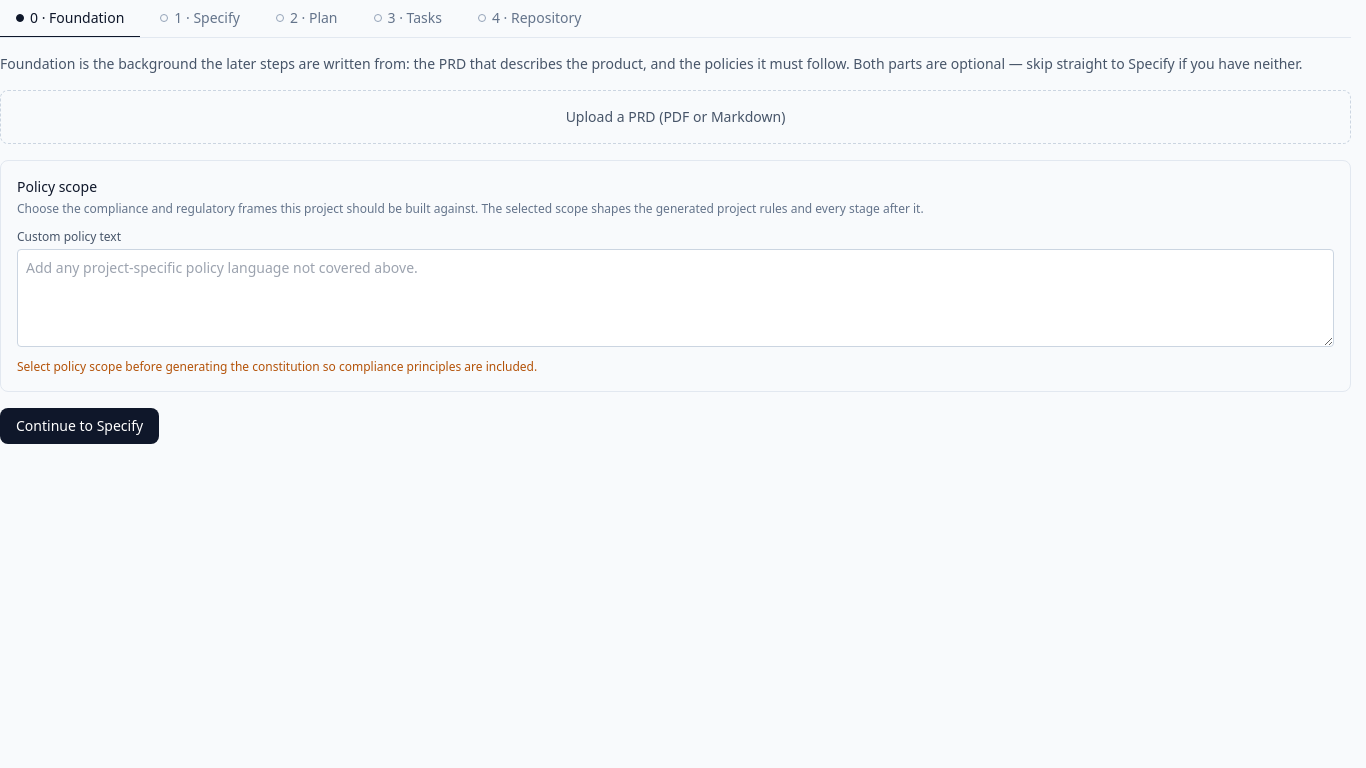
Test case: Planner › shows the Plan tab read-only to a member who is not a workspace admin
What coordinates should you click on to do the following:
click the tab "2 · Plan"
I would click on:
 (307, 19)
Its box is top-left (260, 0), bottom-right (354, 38).
(page scrolled)
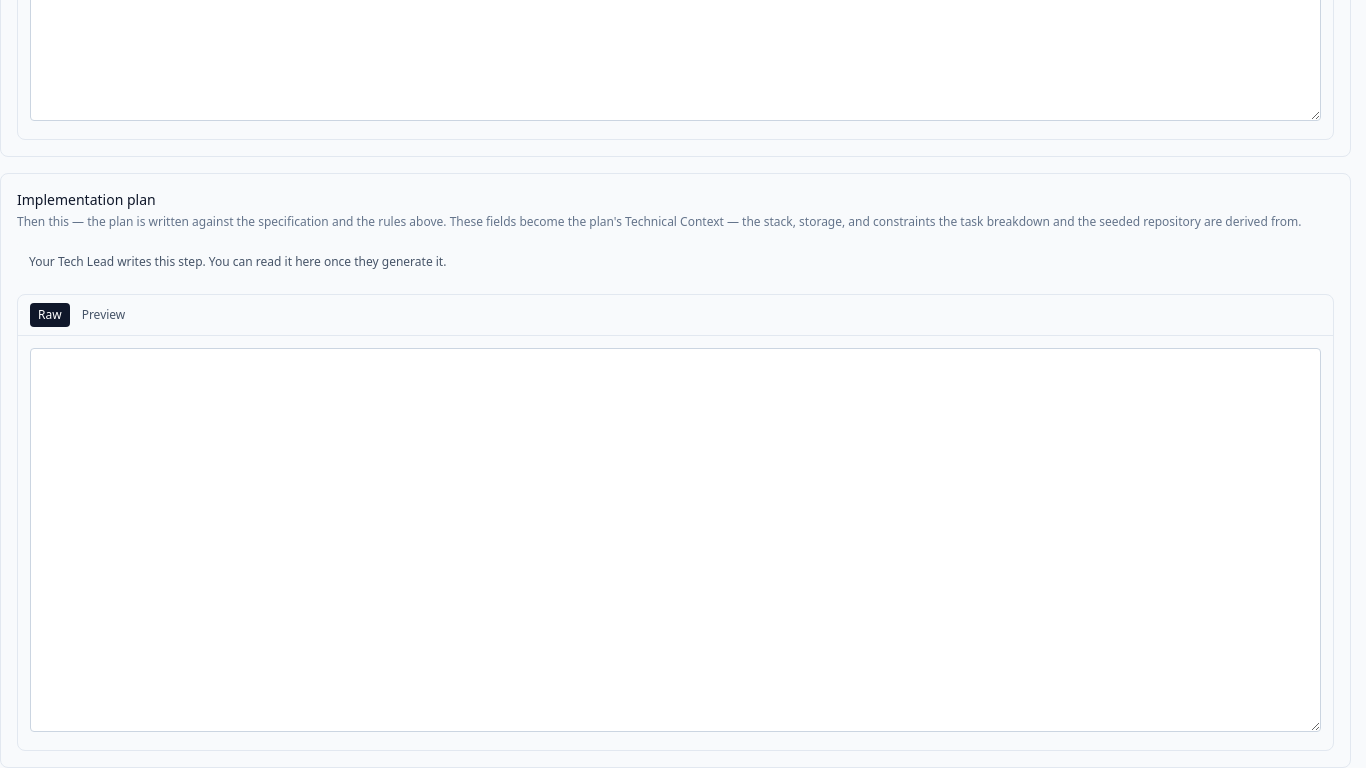
Expected: the text "your tech lead writes this step" is shown 2 times
